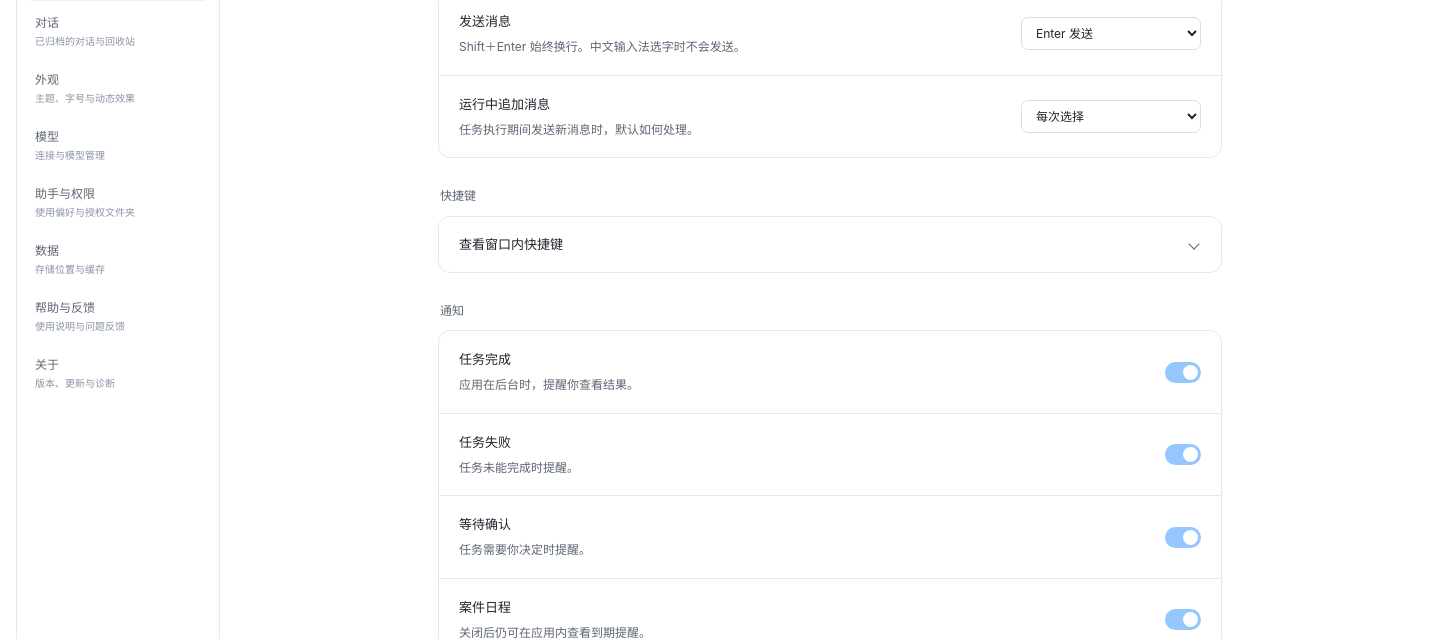
Test case: agent category shows the background command limit with the runtime value
The image size is (1440, 639).
What coordinates should you click on to do the following:
click the button "助手与权限 使用偏好与授权文件夹"
I would click on:
 (118, 202)
Its box is [24, 174, 212, 229].
(page scrolled)
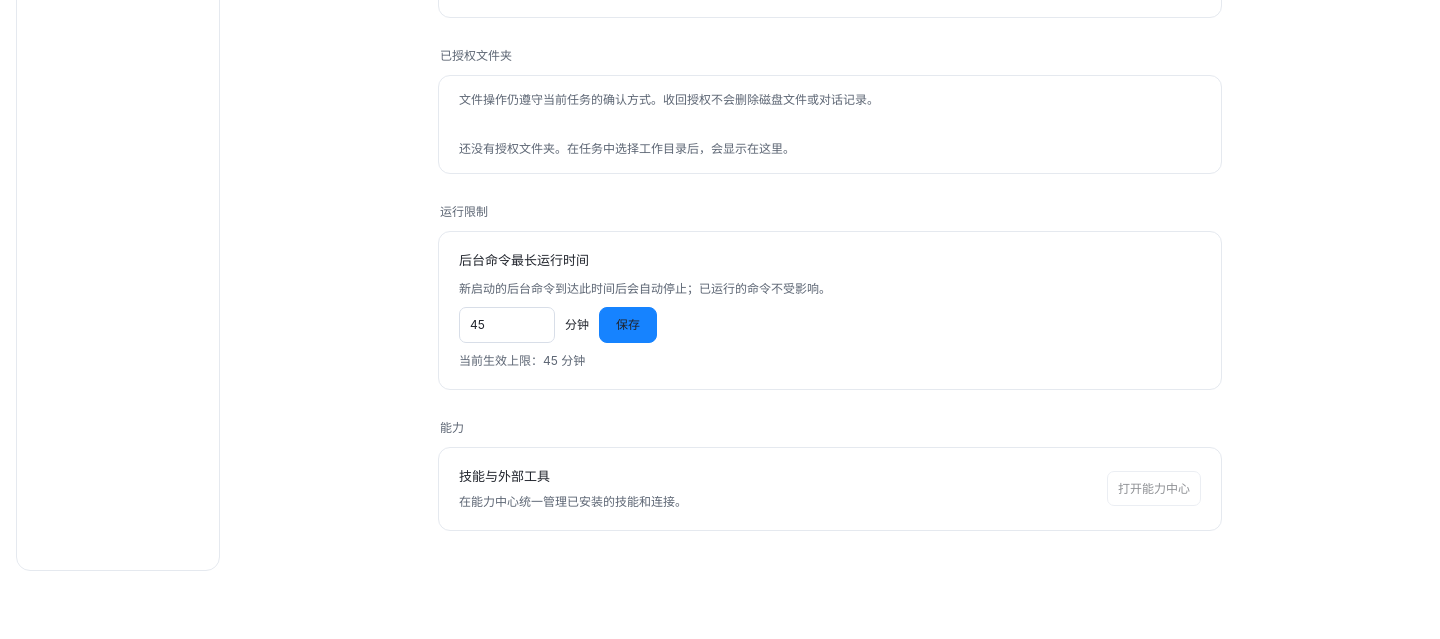
Now the number field named "后台命令最长运行时间" holds "45", box [459, 307, 555, 342]
